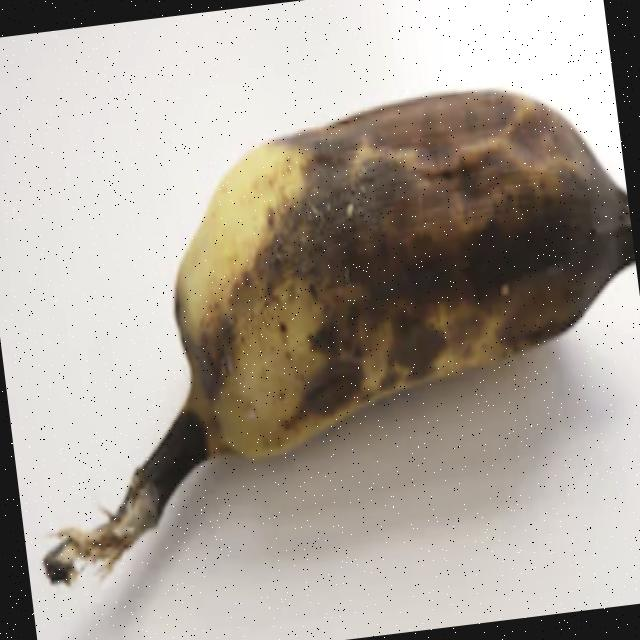Rotten: (0, 51, 640, 620)
